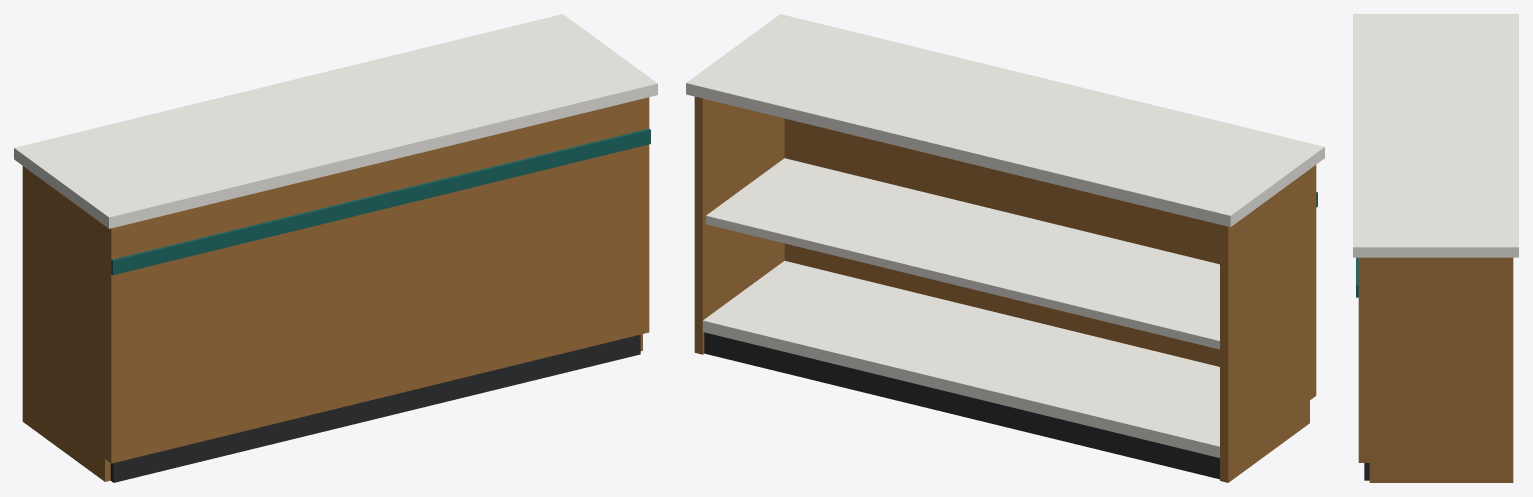
Rendered from SM_Shop_Counter_Service_01.glb.
3 renders of one model, left to right at view 1: azimuth 30°, elevation 25°; view 2: azimuth 150°, elevation 25°; view 3: azimuth 270°, elevation 25°, orthographic. The views are drawn at different scales.
Visible parts, largest first — view 1: SM_Shop_Counter_Service_01; view 2: SM_Shop_Counter_Service_01; view 3: SM_Shop_Counter_Service_01.
Boxes of the visible parts, bbox=[...] form: SM_Shop_Counter_Service_01: bbox=[14, 14, 657, 482]; SM_Shop_Counter_Service_01: bbox=[686, 14, 1324, 482]; SM_Shop_Counter_Service_01: bbox=[1353, 14, 1518, 482].
Bounding box in the file's own units: 2 × 0.95 × 0.6.
Materials: 1 (1 with a texture image).
